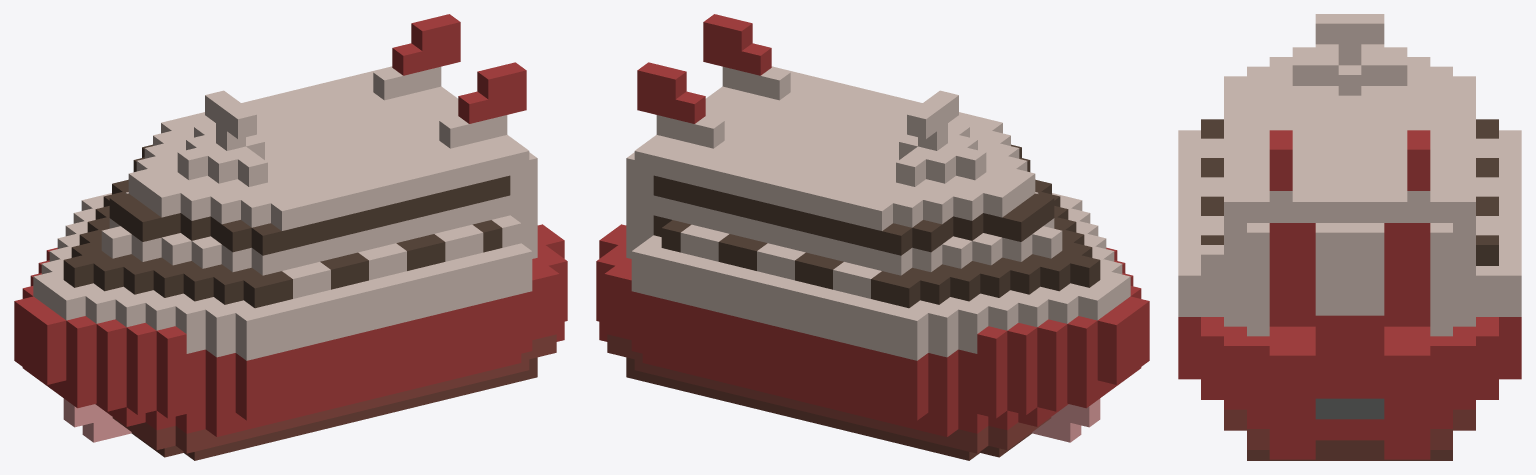
The model's file is 210516shipandplane-1.obj.
3 views of the same model, side by side, from view 1: azimuth 30°, elevation 25°; view 2: azimuth 150°, elevation 25°; view 3: azimuth 270°, elevation 25° (orthographic). The views are drawn at different scales.
Size of the model in its own units: 2.6 by 1.5 by 1.5.
1 material, 1 textured.
